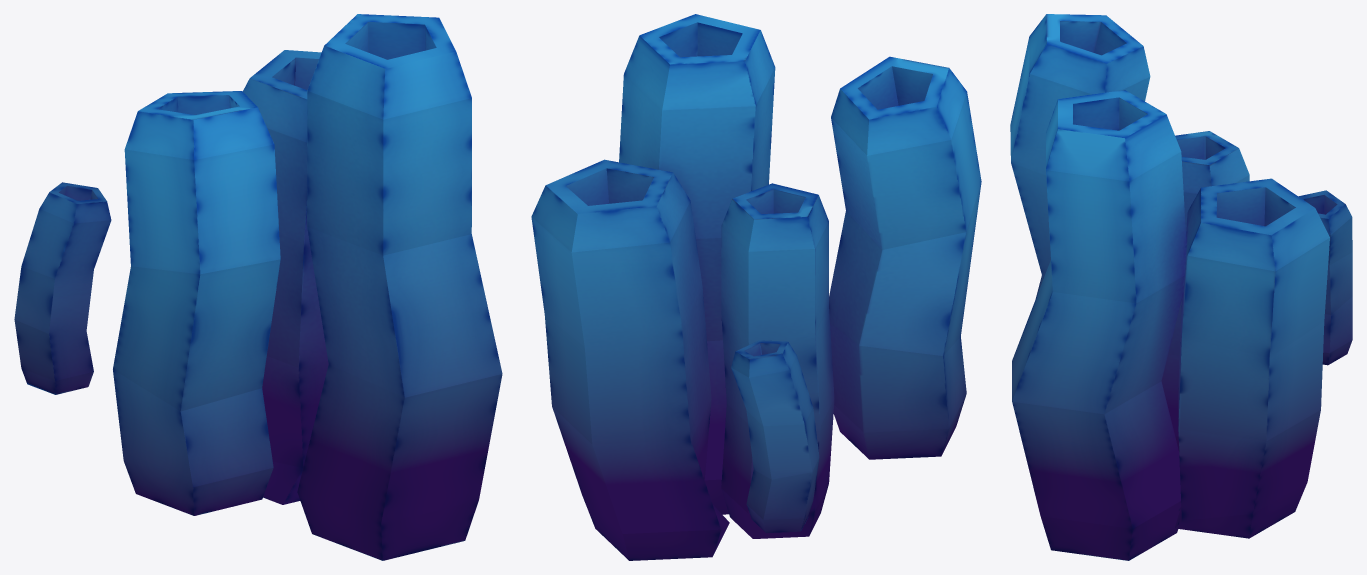
File: corals.glb
3 views of the same model, side by side, from view 1: azimuth 30°, elevation 25°; view 2: azimuth 150°, elevation 25°; view 3: azimuth 270°, elevation 25° (orthographic). The views are drawn at different scales.
Parts seen in each view (by area): view 1: Blue Corals; view 2: Blue Corals; view 3: Blue Corals.
Boxes of the visible parts, x1=… form: Blue Corals: x1=14, y1=14, x2=502, y2=560; Blue Corals: x1=531, y1=14, x2=981, y2=560; Blue Corals: x1=1010, y1=14, x2=1352, y2=560.
Bounding box in the file's own units: 1.01 × 1.31 × 0.9668.
1 material, 1 textured.
